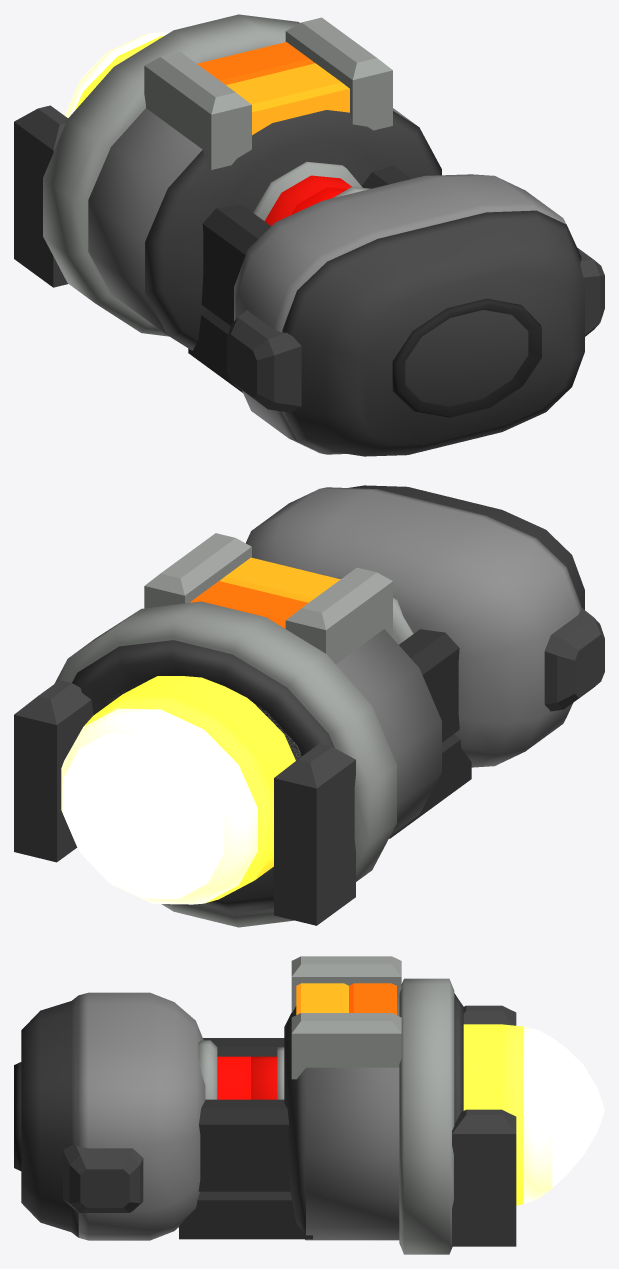
File: mini-missile.glb
3 renders of one model, top to bottom at view 1: azimuth 30°, elevation 25°; view 2: azimuth 150°, elevation 25°; view 3: azimuth 270°, elevation 25°, orthographic. The views are drawn at different scales.
Parts seen in each view (by area): view 1: mini-missile, mini-missile-hard; view 2: mini-missile, mini-missile-hard; view 3: mini-missile, mini-missile-hard.
Part boxes in pixels (box(x1,y1,x2,y2)): mini-missile: box(43, 14, 584, 456); mini-missile-hard: box(14, 17, 604, 412); mini-missile: box(54, 485, 584, 927); mini-missile-hard: box(14, 533, 604, 925); mini-missile: box(14, 978, 604, 1254); mini-missile-hard: box(63, 956, 516, 1246).
Size of the model in its own units: 0.575 by 0.4747 by 1.03.
